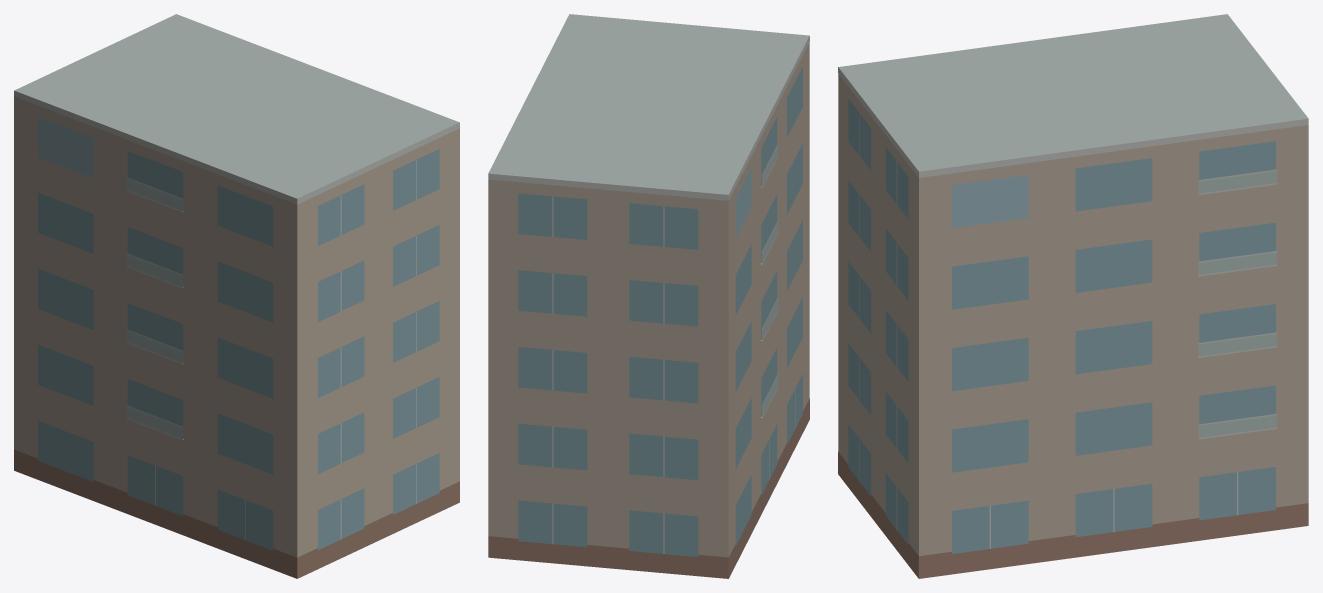
Rendered from survey-upis-32998545.glb.
The picture shows the model from 3 angles, left to right: view 1: azimuth 30°, elevation 25°; view 2: azimuth 150°, elevation 25°; view 3: azimuth 270°, elevation 25°; orthographic projection. The views are drawn at different scales.
Visible parts, largest first — view 1: survey-upis-32998545.tmp; view 2: survey-upis-32998545.tmp; view 3: survey-upis-32998545.tmp.
Boxes of the visible parts, left/top/right/bottom form: survey-upis-32998545.tmp: left=14, top=14, right=459, bottom=578; survey-upis-32998545.tmp: left=488, top=14, right=809, bottom=578; survey-upis-32998545.tmp: left=838, top=14, right=1308, bottom=578.
Bounding box in the file's own units: 13.18 × 15.85 × 16.61.
